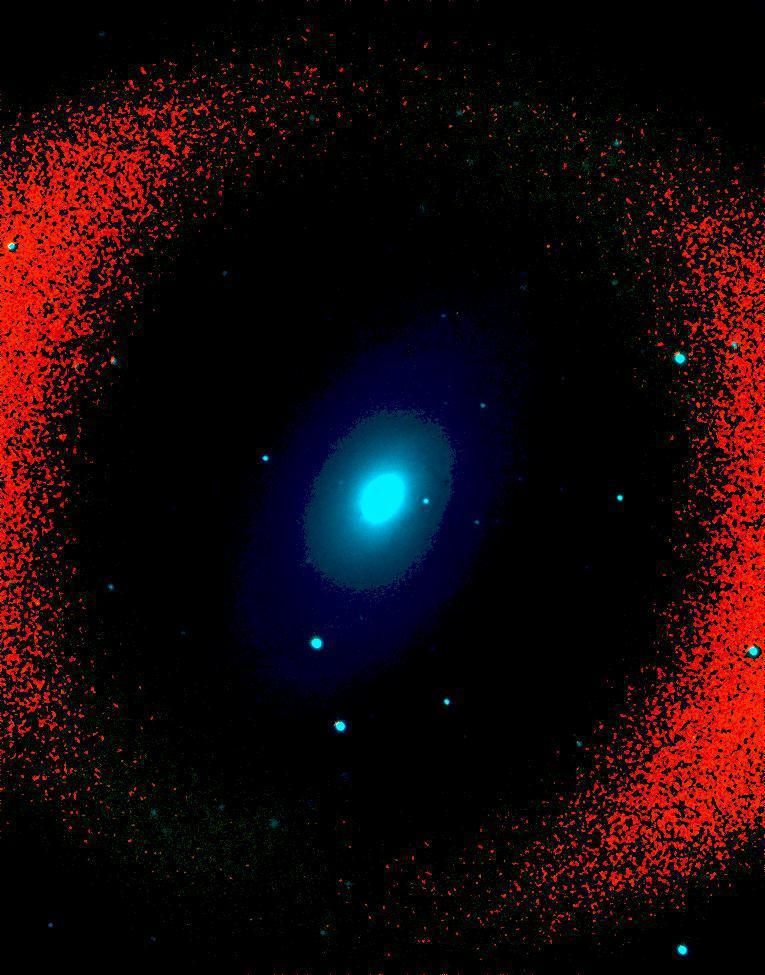star: (534, 229, 564, 259)
